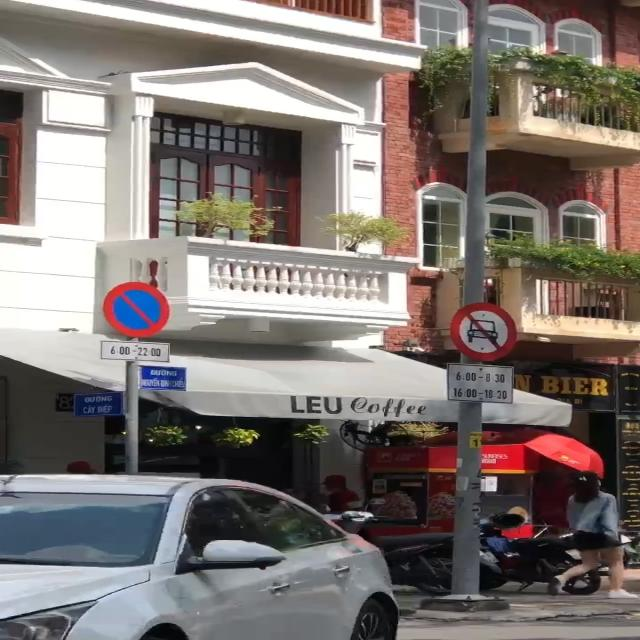Bien bao cam do xe: (101, 278, 176, 339)
Bien bao cam xe oto: (448, 299, 526, 364)
